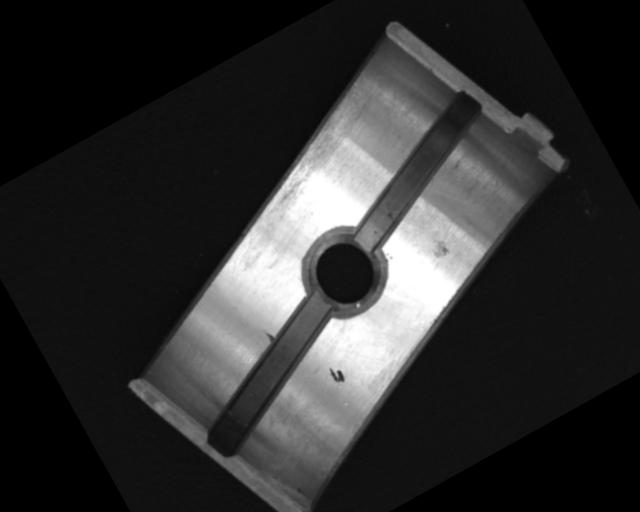blot: (326, 360, 348, 387)
bruise: (426, 235, 451, 261), (263, 327, 278, 344)
gap: (174, 289, 368, 458), (319, 88, 511, 250)
hole: (290, 216, 398, 327)
scratch: (219, 67, 412, 227)
